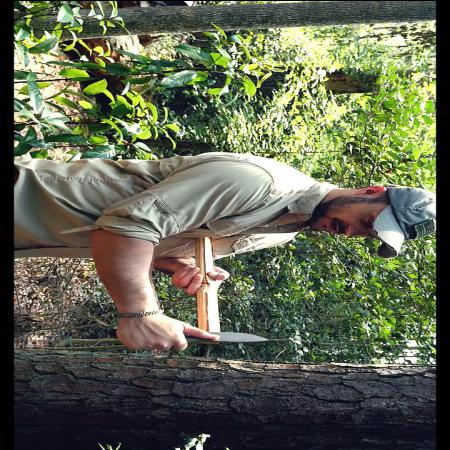long weapon: (128, 322, 274, 352)
